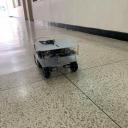cart: (33, 38, 80, 78)
